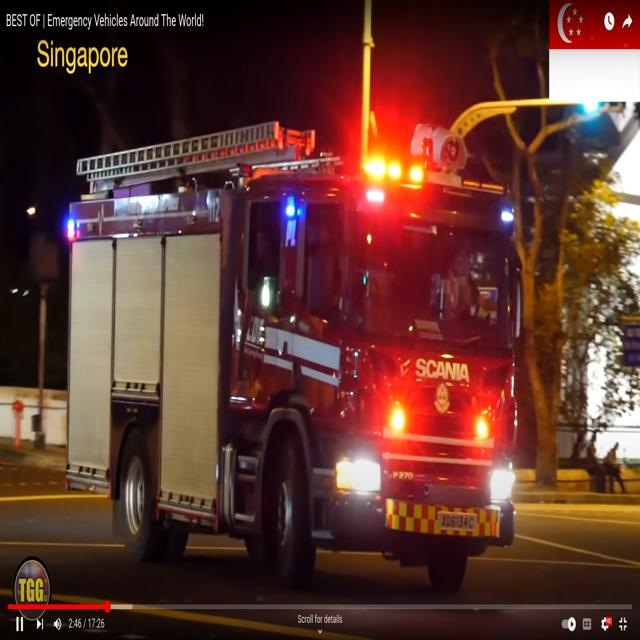emergency-vehicles: (41, 109, 554, 606)
